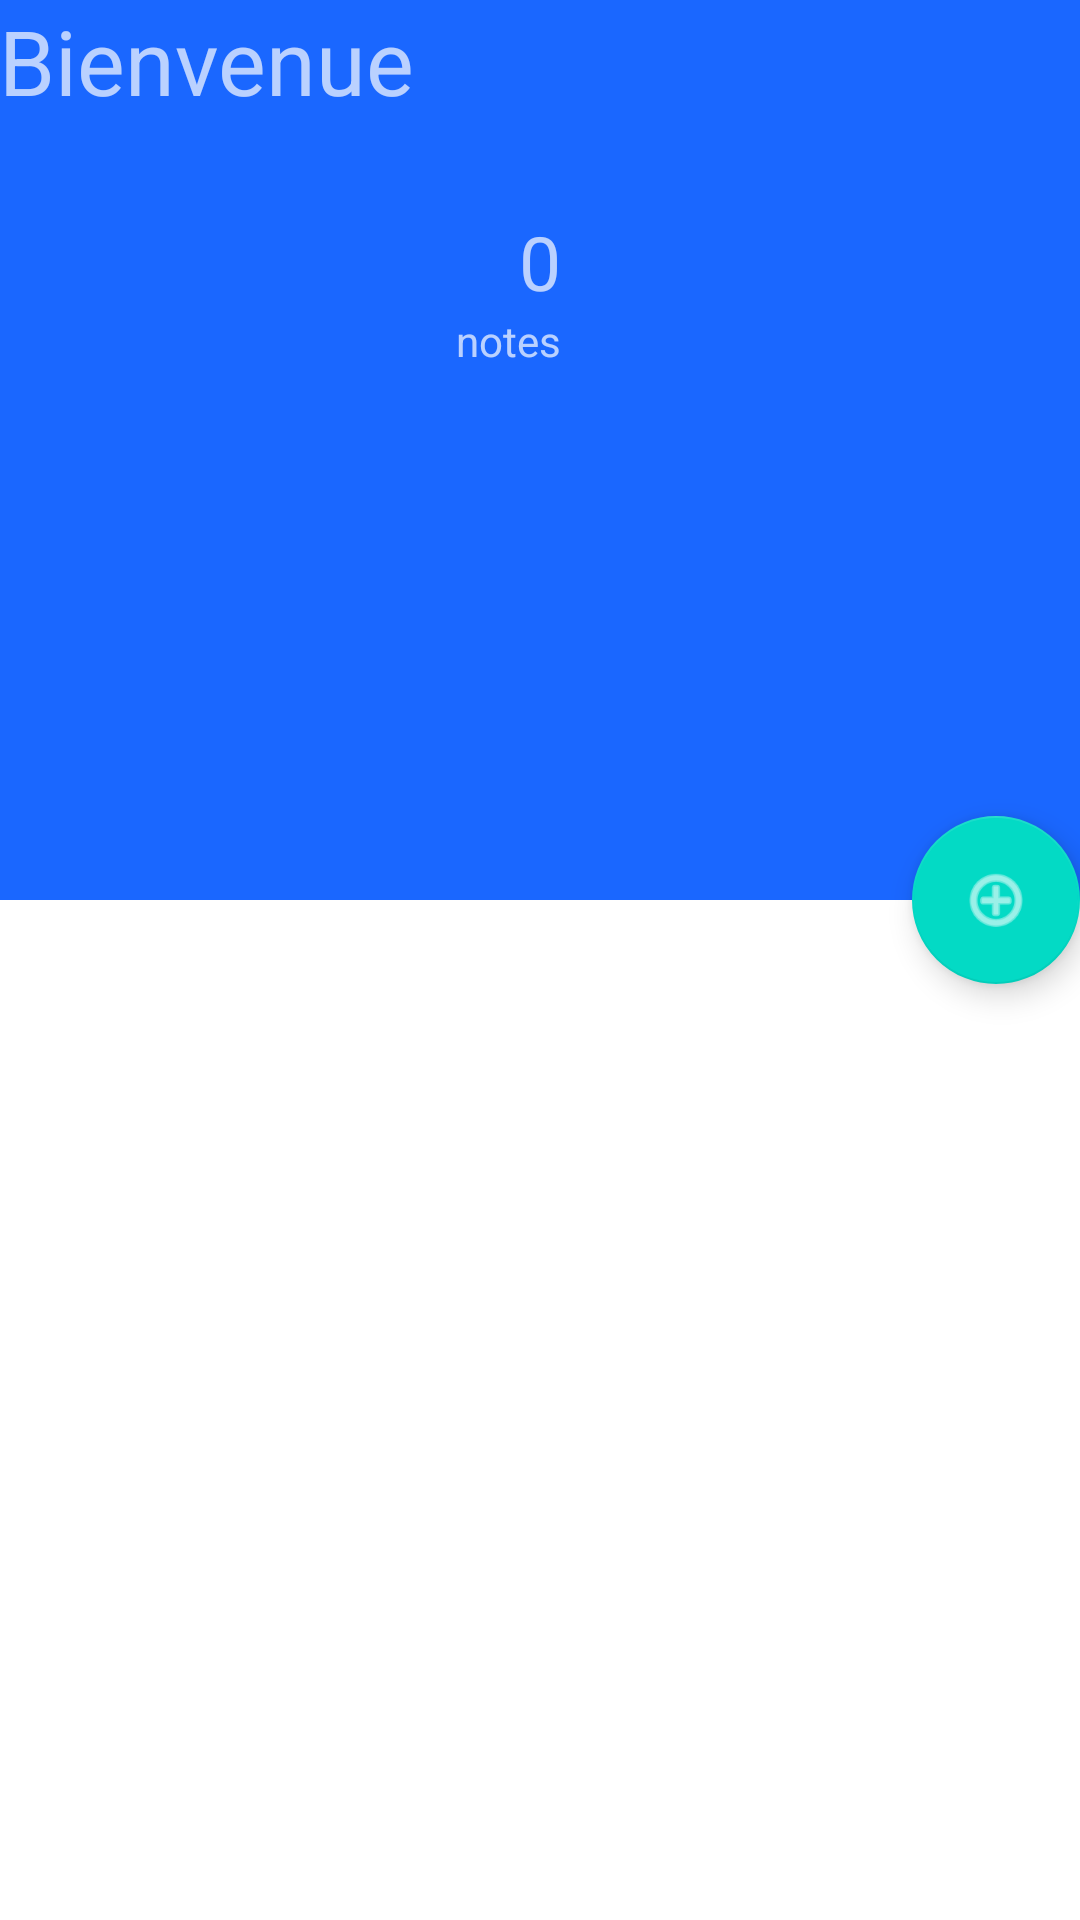

Icon click points for this 1080px x 1920px phone screenshot, format (x,y):
add: (996,900)
